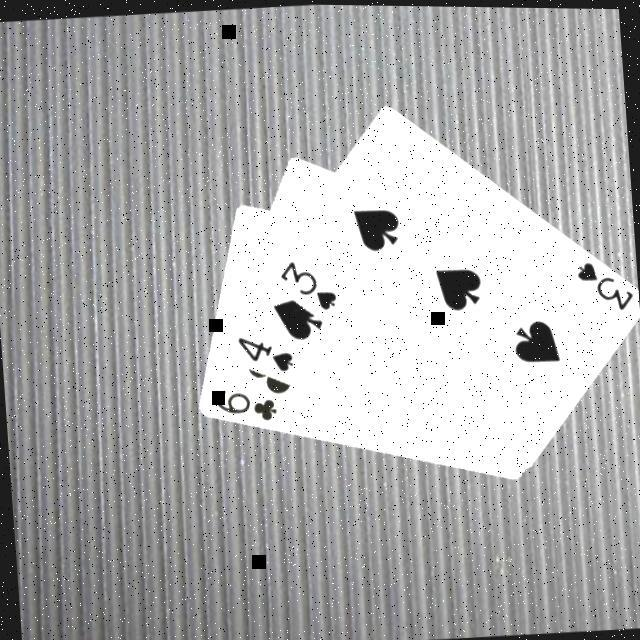3S: (273, 252, 339, 314), (570, 252, 636, 314)
4S: (231, 328, 295, 376)
6C: (210, 381, 278, 426)
